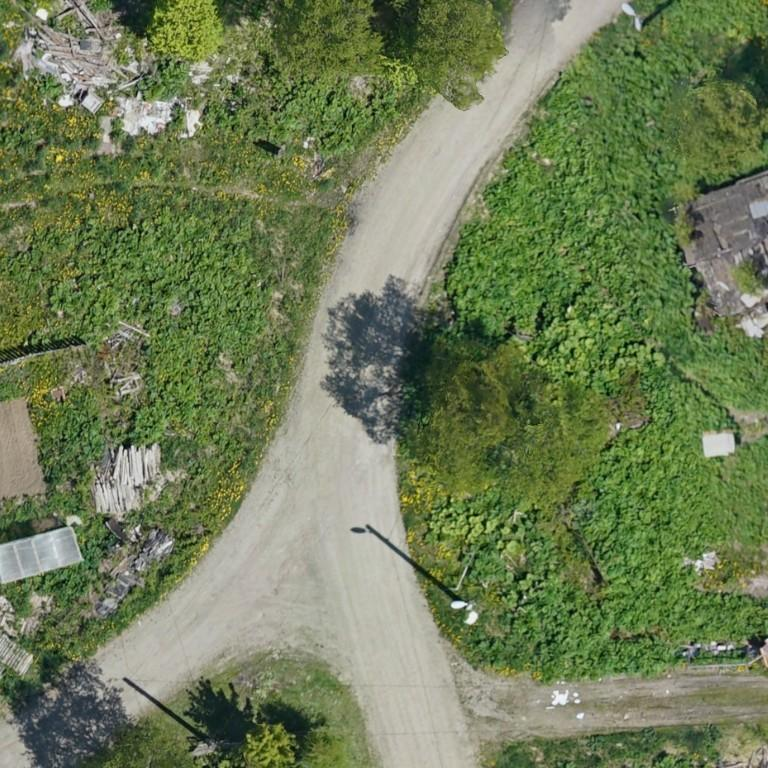hogweed: (492, 371, 767, 676), (445, 52, 683, 332), (6, 206, 270, 453), (254, 72, 397, 156), (42, 403, 102, 478), (34, 540, 103, 605)
